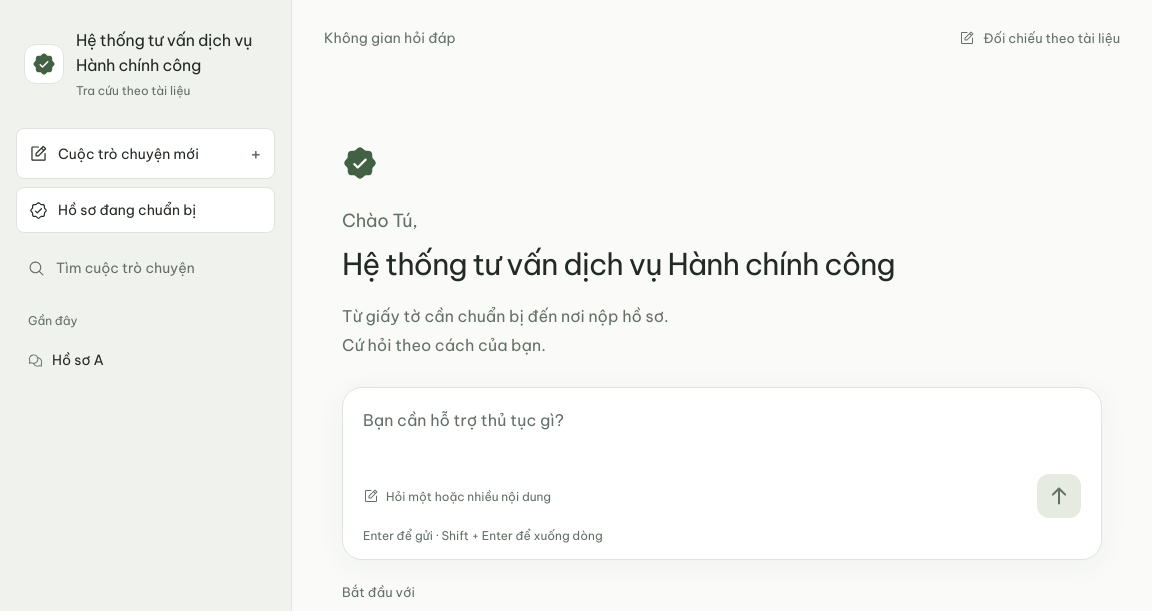
Test: G6 account workspace › clears private data after a session expires
The width and height of the screenshot is (1152, 611).
Click the button "Hồ sơ A": (124, 360) x1=16 y1=338 x2=231 y2=382
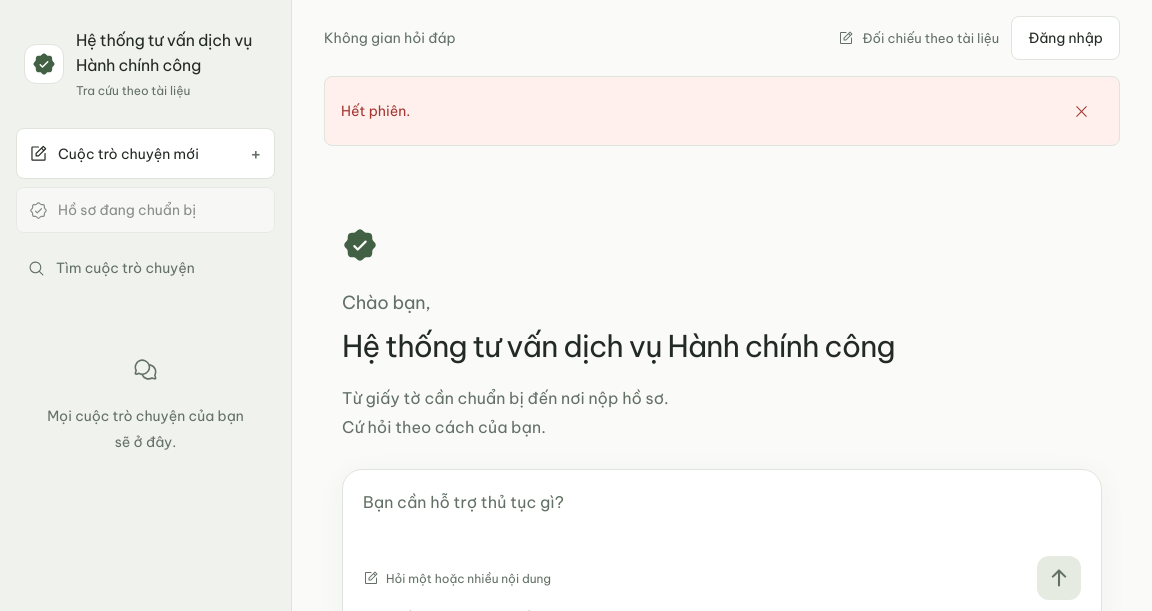
Check: the message shows "Hết phiên", box x1=341 y1=102 x2=410 y2=120
Check: the button "Hồ sơ A" is gone
